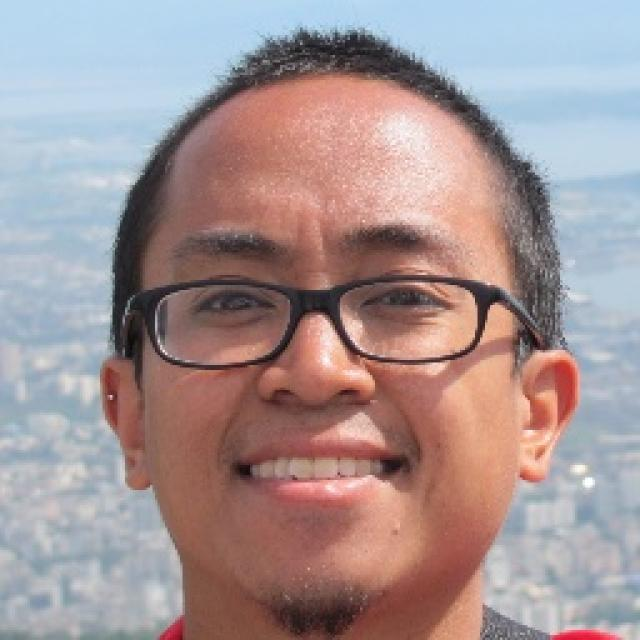earlobe: (121, 444, 154, 491), (517, 444, 555, 484)
eye: (198, 288, 280, 316), (363, 288, 450, 312)
nose: (255, 389, 373, 432)
wholeear: (517, 348, 580, 485), (98, 357, 153, 490)
